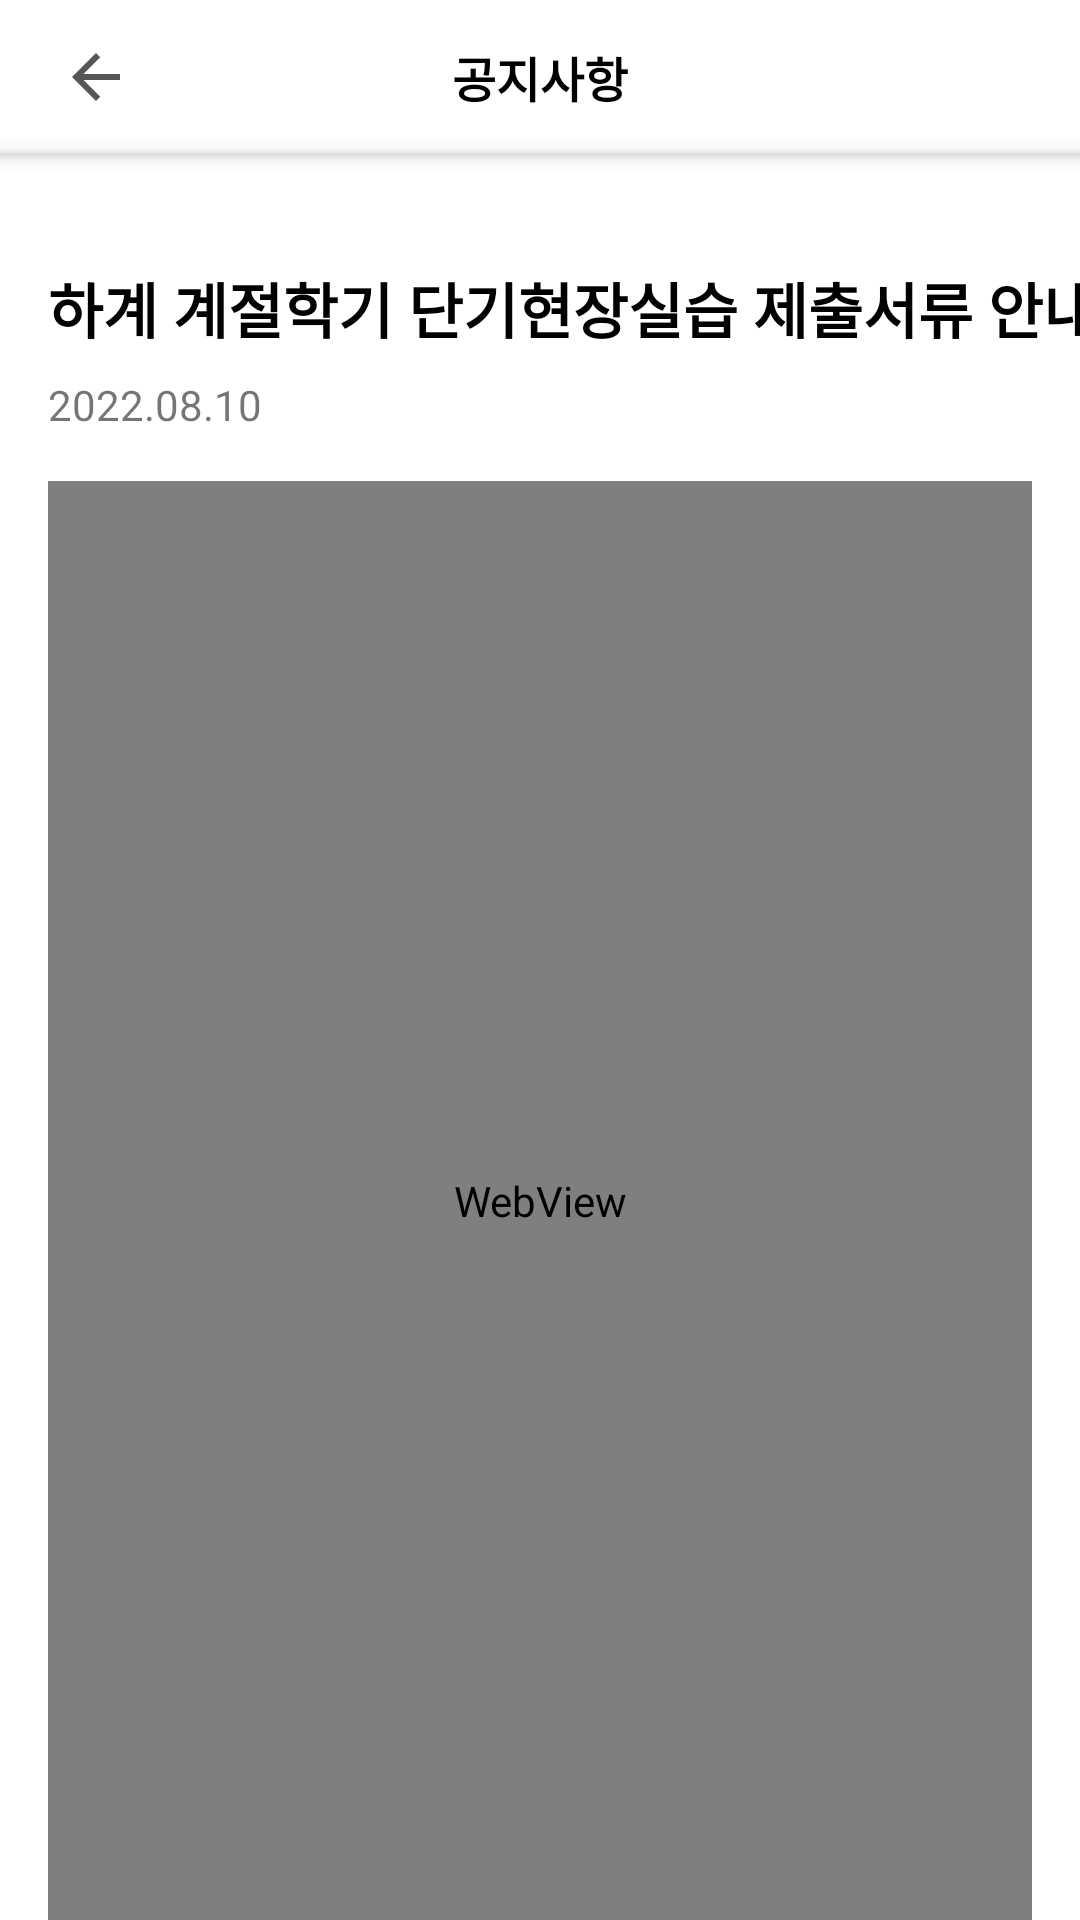

Named icons in this screenshot (1080x1920) and their bounding boxes, (x1, y1, x2, y2):
arrow back: (72, 53, 120, 101)
